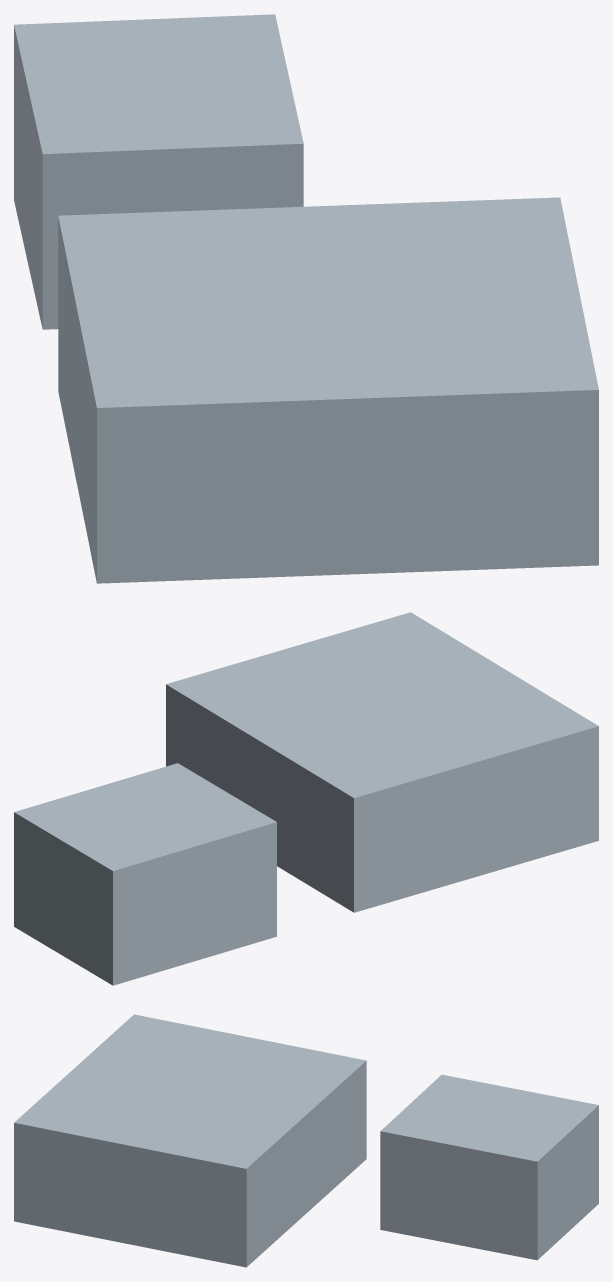
3 renders of one model, top to bottom at view 1: azimuth 30°, elevation 25°; view 2: azimuth 150°, elevation 25°; view 3: azimuth 270°, elevation 25°, orthographic. The views are drawn at different scales.
Size of what is drawn, in the model's own units: 26.87 by 8 by 42.99.
